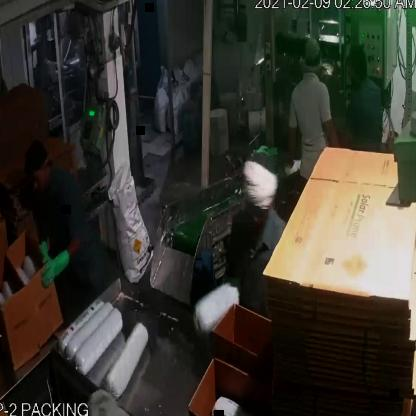glove: (38, 238, 77, 292)
no_glove: (284, 114, 301, 175)
